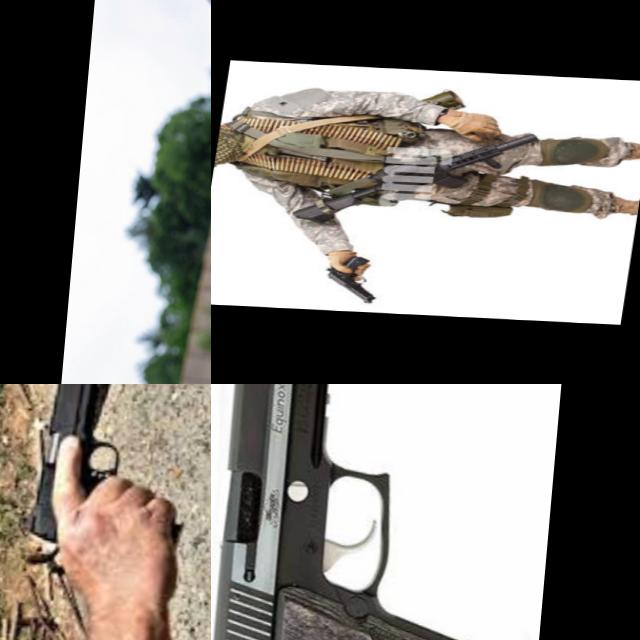handgun: (211, 384, 560, 640), (18, 384, 199, 573), (318, 252, 390, 306)
